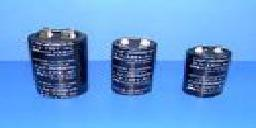Electrolytic-Capacitor: (26, 23, 93, 99), (181, 40, 233, 100), (108, 34, 158, 95)
